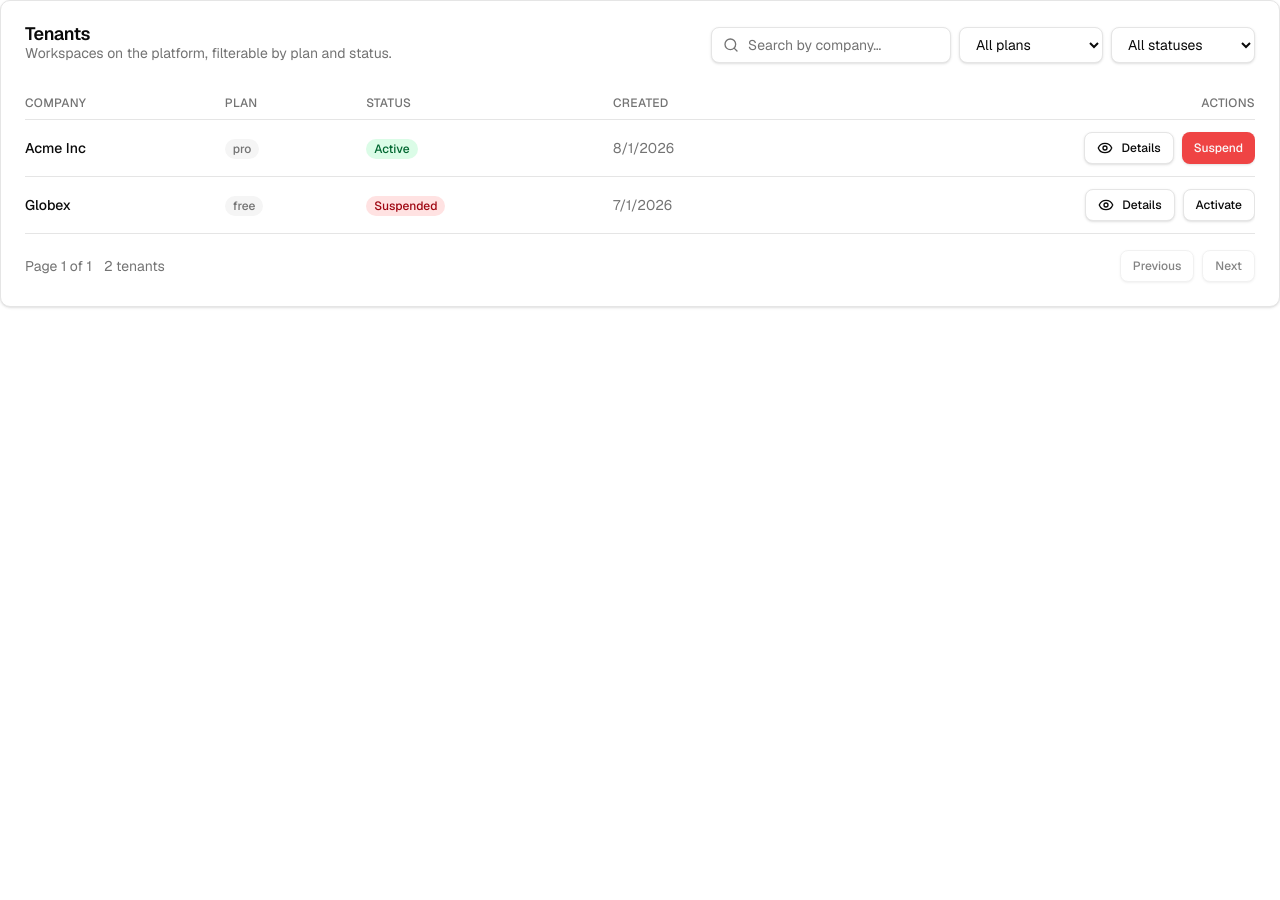
it: TenantPanel › closes the confirm dialog on Escape key
The width and height of the screenshot is (1280, 900).
Click the button "Suspend". click: (1218, 148)
box: [1182, 132, 1255, 164]
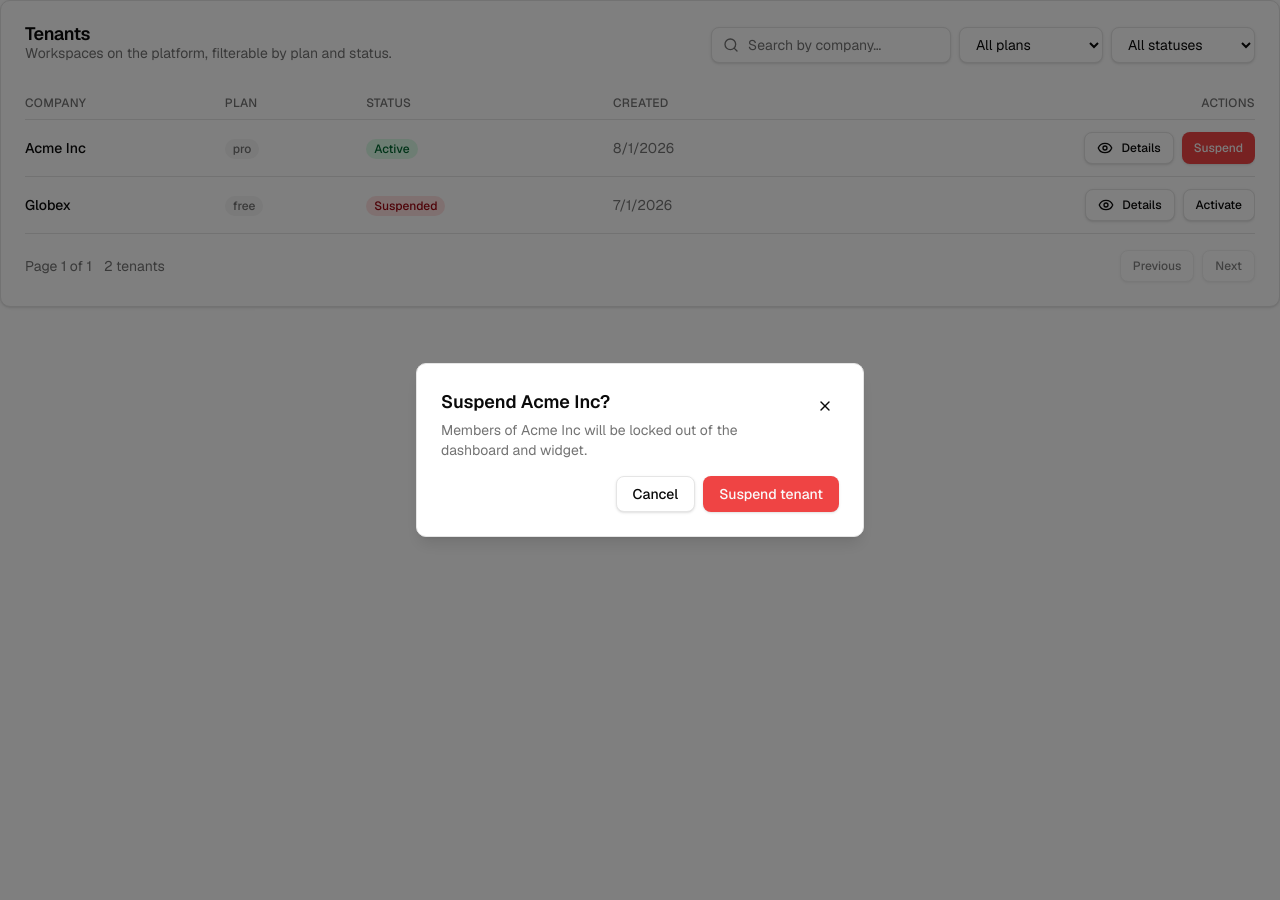
Check: the heading "Suspend Acme Inc?" is shown, box [441, 390, 610, 413]
Press Escape
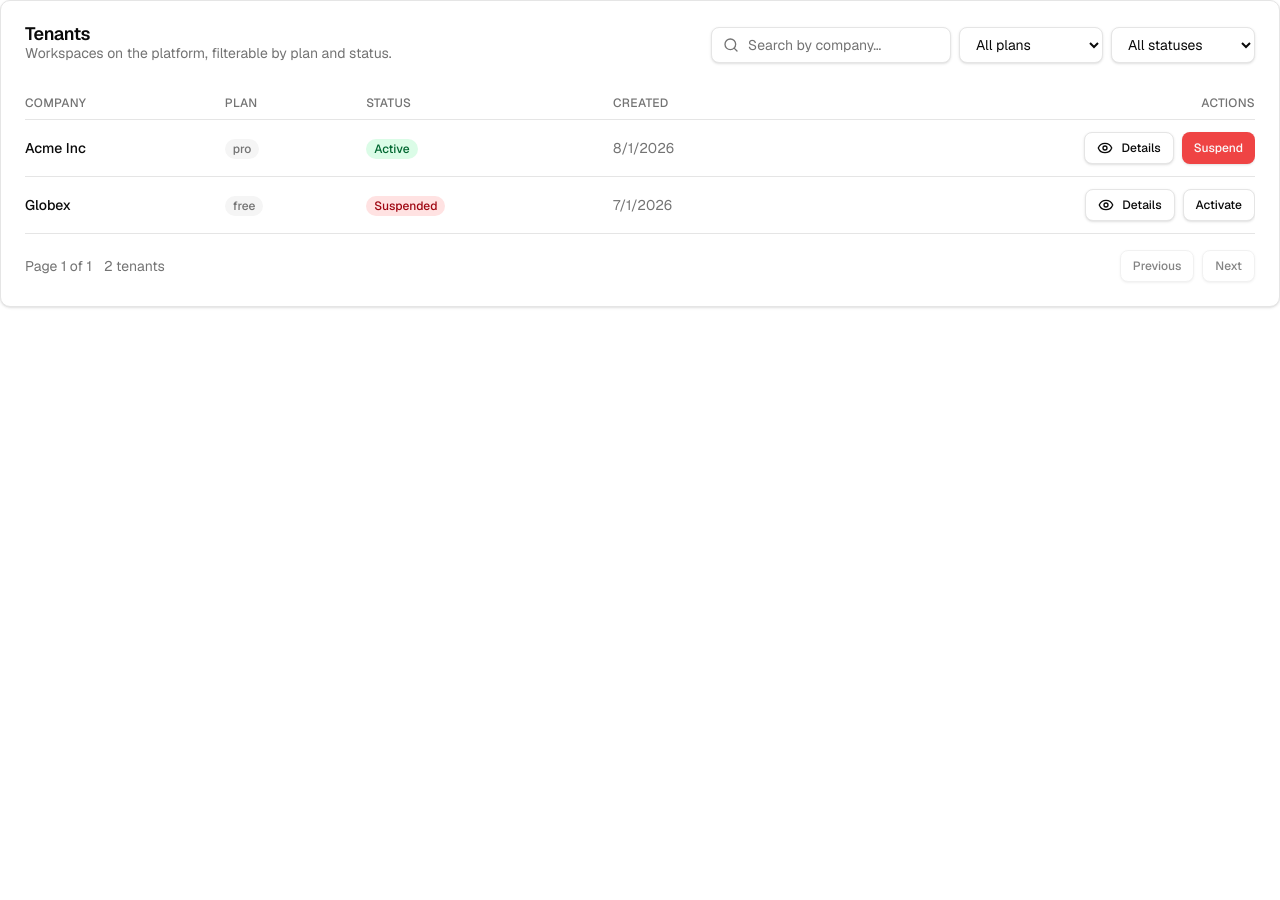
Check: the heading "Suspend Acme Inc?" is gone
